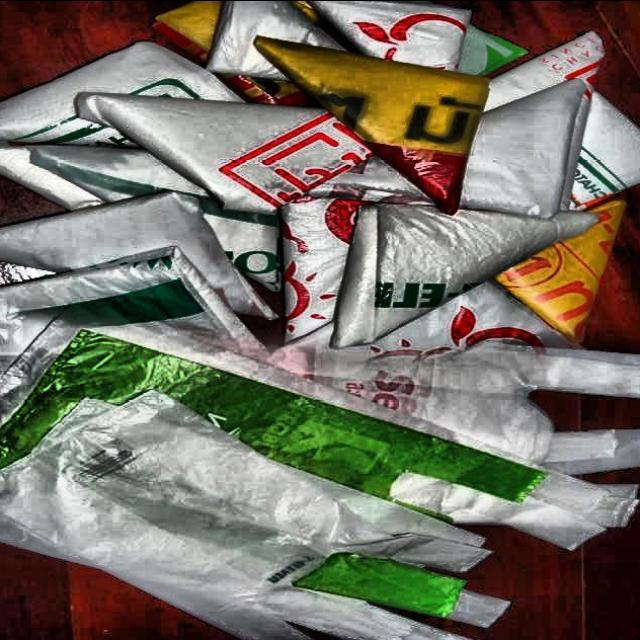plastik: (0, 392, 488, 640), (0, 332, 546, 501), (282, 341, 640, 473)
